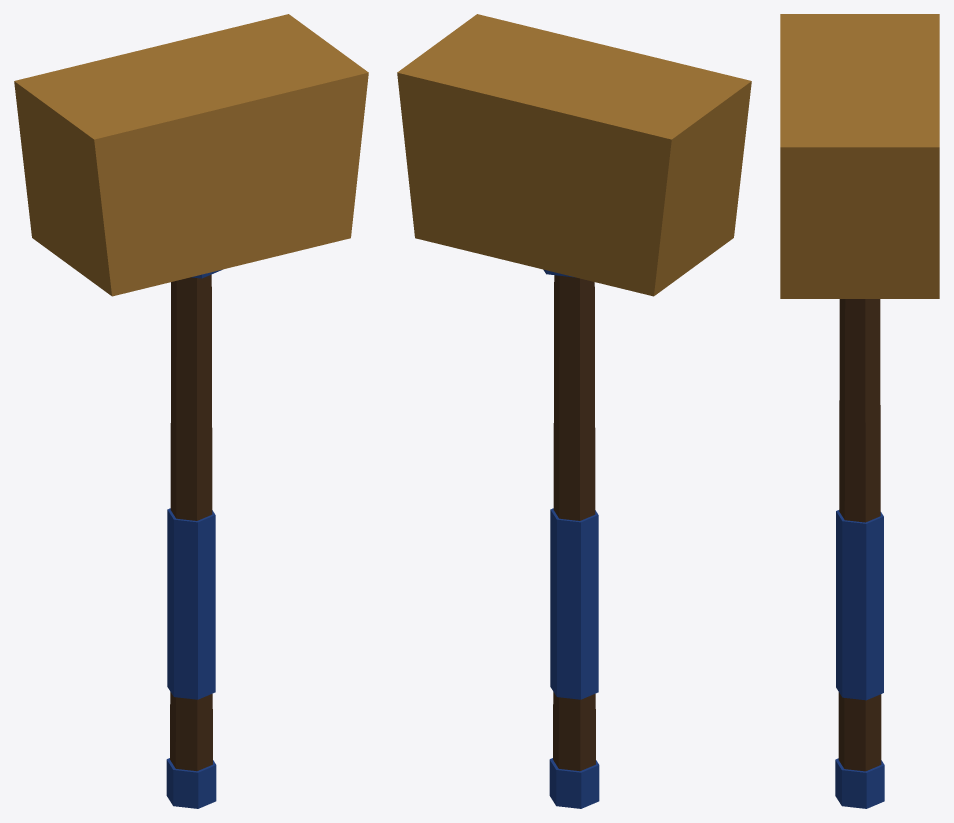
Rendered from weapon_warhammer.glb.
The picture shows the model from 3 angles, left to right: view 1: azimuth 30°, elevation 25°; view 2: azimuth 150°, elevation 25°; view 3: azimuth 270°, elevation 25°; orthographic projection.
Parts seen in each view (by area): view 1: minotaur_weapon_warhammer; view 2: minotaur_weapon_warhammer; view 3: minotaur_weapon_warhammer.
Boxes of the visible parts, <box> form: minotaur_weapon_warhammer: <box>14,14,368,808</box>; minotaur_weapon_warhammer: <box>397,14,751,808</box>; minotaur_weapon_warhammer: <box>780,14,939,808</box>.
Bounding box in the file's own units: 0.4278 × 1.07 × 0.216.
